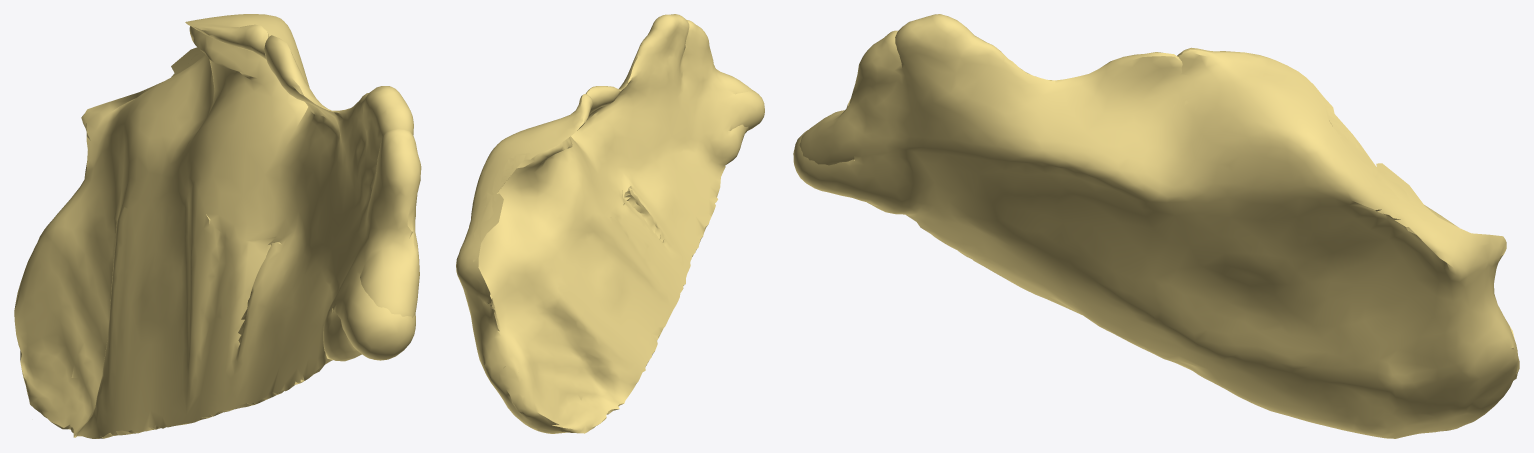
File: fma72681_fj7475m.glb
3 renders of one model, left to right at view 1: azimuth 30°, elevation 25°; view 2: azimuth 150°, elevation 25°; view 3: azimuth 270°, elevation 25°, orthographic. The views are drawn at different scales.
Parts seen in each view (by area): view 1: FMA72681_FJ7475M; view 2: FMA72681_FJ7475M; view 3: FMA72681_FJ7475M.
Boxes of the visible parts, left/top/right/bottom form: FMA72681_FJ7475M: left=14, top=14, right=421, bottom=438; FMA72681_FJ7475M: left=456, top=14, right=764, bottom=433; FMA72681_FJ7475M: left=793, top=14, right=1519, bottom=438.
Bounding box in the file's own units: 0.0142 × 0.0302 × 0.043.
